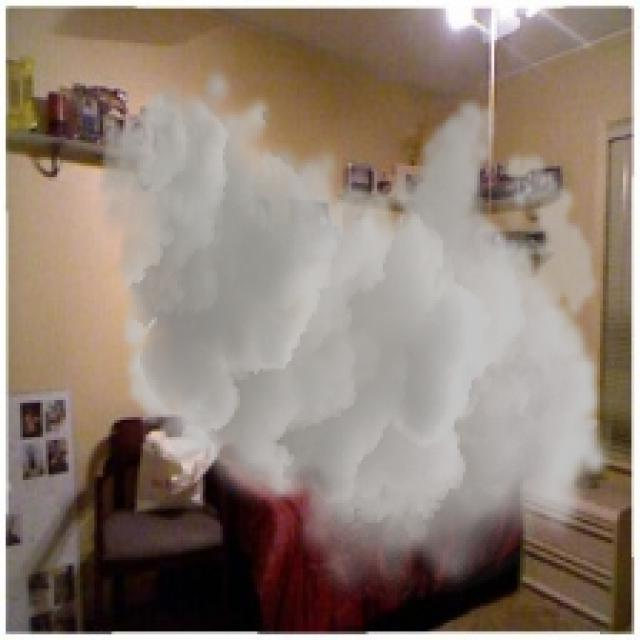smoke: (95, 63, 614, 606)
